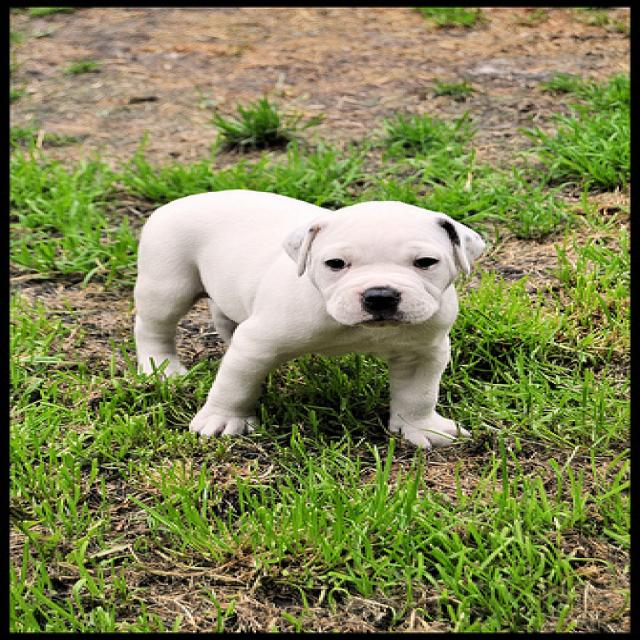dog-american_bulldog: (115, 180, 501, 457)
